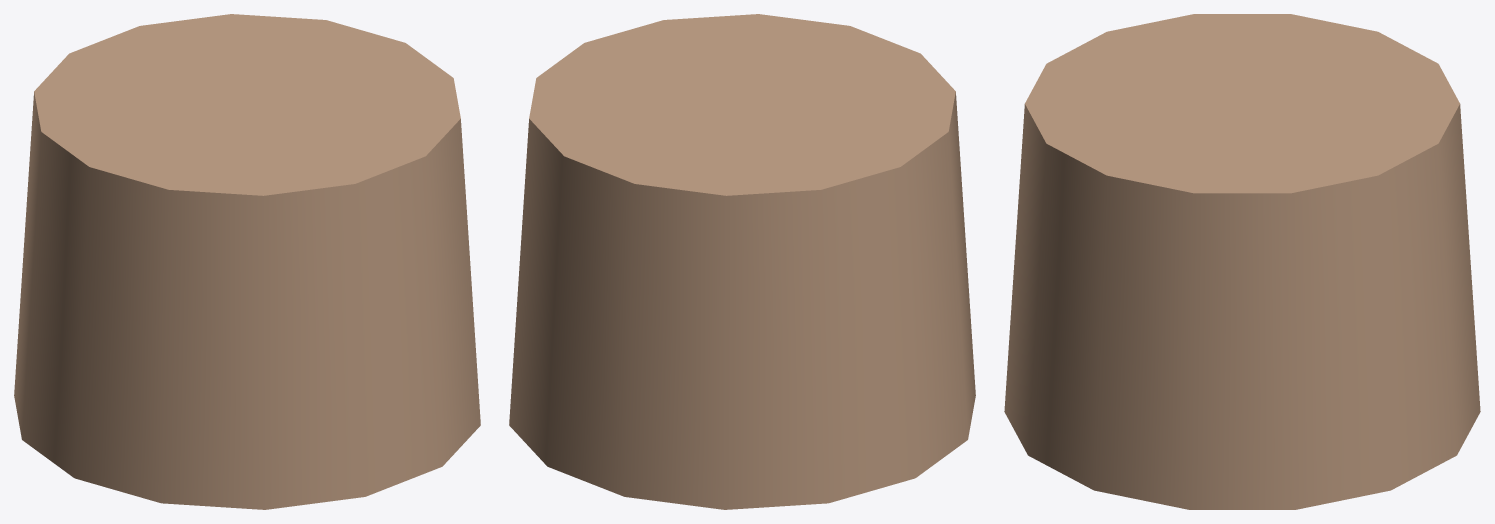
Rendered from stump_seat.glb.
The picture shows the model from 3 angles, left to right: view 1: azimuth 30°, elevation 25°; view 2: azimuth 150°, elevation 25°; view 3: azimuth 270°, elevation 25°; orthographic projection.
Visible parts, largest first — view 1: stump_seat; view 2: stump_seat; view 3: stump_seat.
Boxes of the visible parts, x1,y1,x2,y2 form: stump_seat: (14, 14, 480, 509); stump_seat: (509, 14, 975, 509); stump_seat: (1004, 14, 1480, 509).
Size of the model in its own units: 0.6824 by 0.5 by 0.7.
